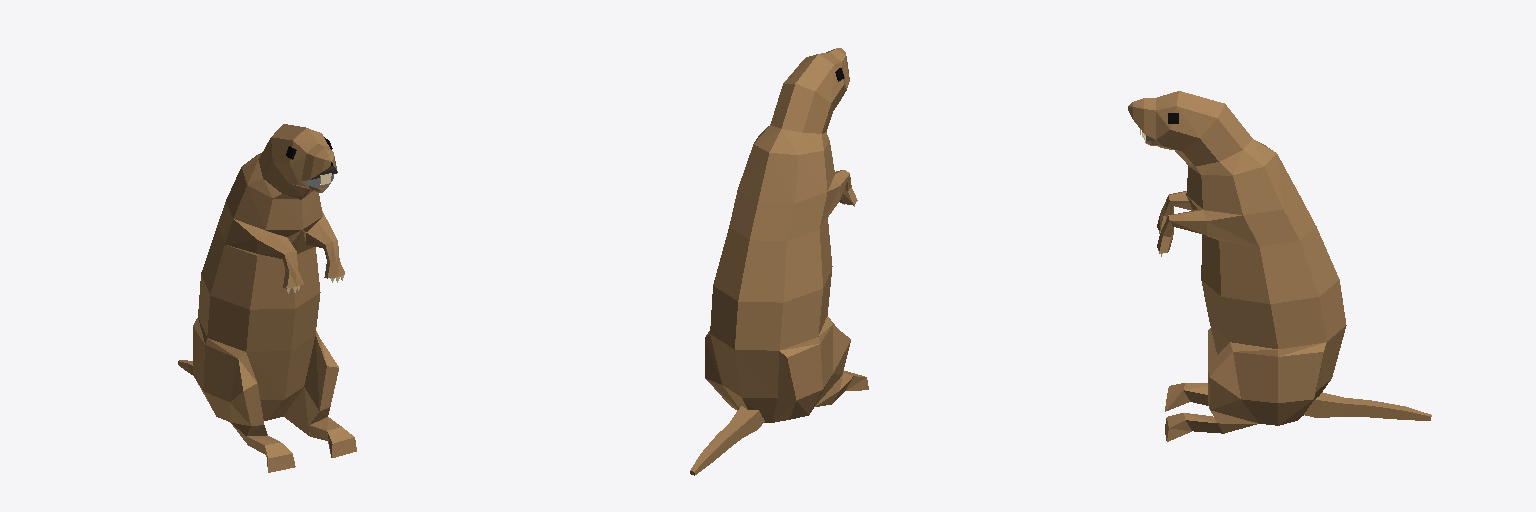
The picture shows the model from 3 angles: view 1: azimuth 30°, elevation 25°; view 2: azimuth 150°, elevation 25°; view 3: azimuth 270°, elevation 25°; orthographic projection.
Visible parts, largest first — view 1: Geo_Gopher; view 2: Geo_Gopher; view 3: Geo_Gopher.
Part boxes in pixels (left/top/right/bottom): Geo_Gopher: left=178, top=124, right=356, bottom=472; Geo_Gopher: left=690, top=48, right=868, bottom=475; Geo_Gopher: left=1128, top=91, right=1431, bottom=441.
Size of the model in its own units: 23.04 by 67.52 by 56.13.
1 materials, 1 textured.